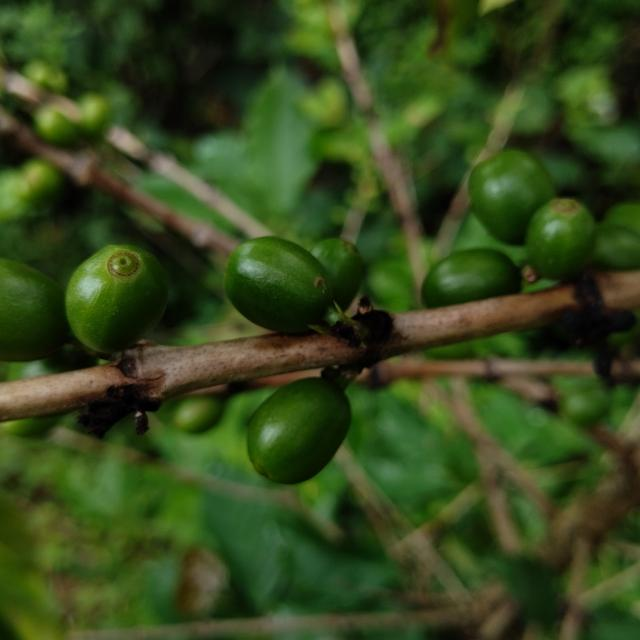green: (247, 378, 351, 485), (65, 245, 168, 353), (224, 236, 333, 333), (469, 150, 556, 244), (0, 258, 68, 362), (422, 249, 522, 308), (526, 198, 596, 280), (310, 238, 365, 310), (593, 202, 640, 270)
